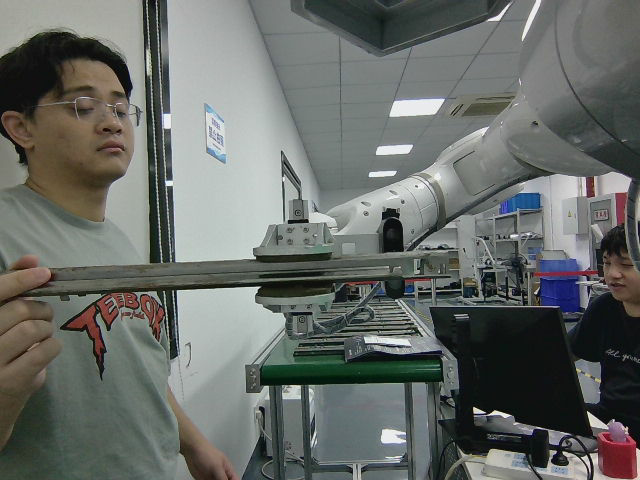down: (53, 249, 459, 298)
